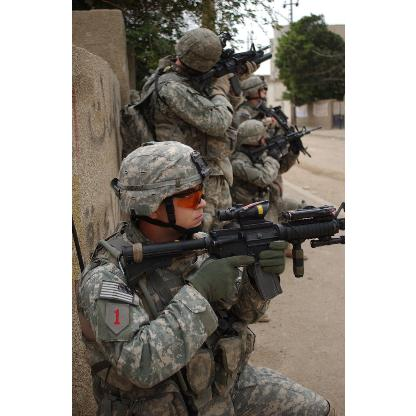gun: (114, 195, 342, 321), (187, 44, 273, 96), (242, 118, 324, 158)
